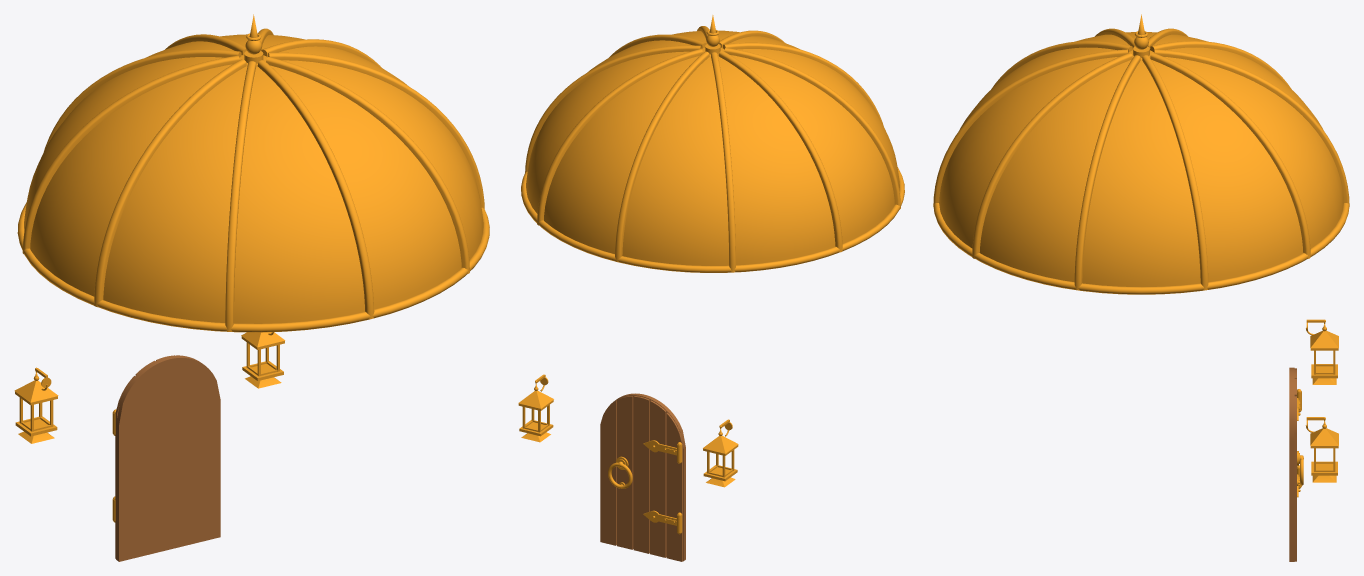
The model's file is HaloDomeHouse_09_ornaments.glb.
3 views of the same model, side by side, from view 1: azimuth 30°, elevation 25°; view 2: azimuth 150°, elevation 25°; view 3: azimuth 270°, elevation 25° (orthographic). The views are drawn at different scales.
Visible parts, largest first — view 1: Orn_HaloDomeHouse_09_Dome, Orn_HaloDomeHouse_09_Leaf, Orn_HaloDomeHouse_09_Dome_Ribs, Orn_HaloDomeHouse_09_Lantern0, Orn_HaloDomeHouse_09_Lantern1; view 2: Orn_HaloDomeHouse_09_Dome, Orn_HaloDomeHouse_09_Dome_Ribs, Orn_HaloDomeHouse_09_Leaf, Orn_HaloDomeHouse_09_Lantern1, Orn_HaloDomeHouse_09_Lantern0; view 3: Orn_HaloDomeHouse_09_Dome, Orn_HaloDomeHouse_09_Dome_Ribs, Orn_HaloDomeHouse_09_Leaf, Orn_HaloDomeHouse_09_Lantern1, Orn_HaloDomeHouse_09_Lantern0.
Boxes of the visible parts, x1=… form: Orn_HaloDomeHouse_09_Dome: x1=17, y1=14, x2=489, y2=332; Orn_HaloDomeHouse_09_Leaf: x1=115, y1=355, x2=220, y2=561; Orn_HaloDomeHouse_09_Dome_Ribs: x1=22, y1=28, x2=484, y2=331; Orn_HaloDomeHouse_09_Lantern0: x1=14, y1=367, x2=58, y2=443; Orn_HaloDomeHouse_09_Lantern1: x1=241, y1=332, x2=285, y2=388; Orn_HaloDomeHouse_09_Dome: x1=521, y1=15, x2=904, y2=272; Orn_HaloDomeHouse_09_Dome_Ribs: x1=525, y1=26, x2=900, y2=272; Orn_HaloDomeHouse_09_Leaf: x1=600, y1=393, x2=685, y2=561; Orn_HaloDomeHouse_09_Lantern1: x1=518, y1=374, x2=553, y2=442; Orn_HaloDomeHouse_09_Lantern0: x1=703, y1=419, x2=738, y2=487; Orn_HaloDomeHouse_09_Dome: x1=933, y1=14, x2=1349, y2=294; Orn_HaloDomeHouse_09_Dome_Ribs: x1=933, y1=28, x2=1349, y2=290; Orn_HaloDomeHouse_09_Leaf: x1=1289, y1=367, x2=1296, y2=561; Orn_HaloDomeHouse_09_Lantern1: x1=1305, y1=417, x2=1338, y2=482; Orn_HaloDomeHouse_09_Lantern0: x1=1306, y1=319, x2=1338, y2=384.
Size of the model in its own units: 17.32 by 24.15 by 17.32.
